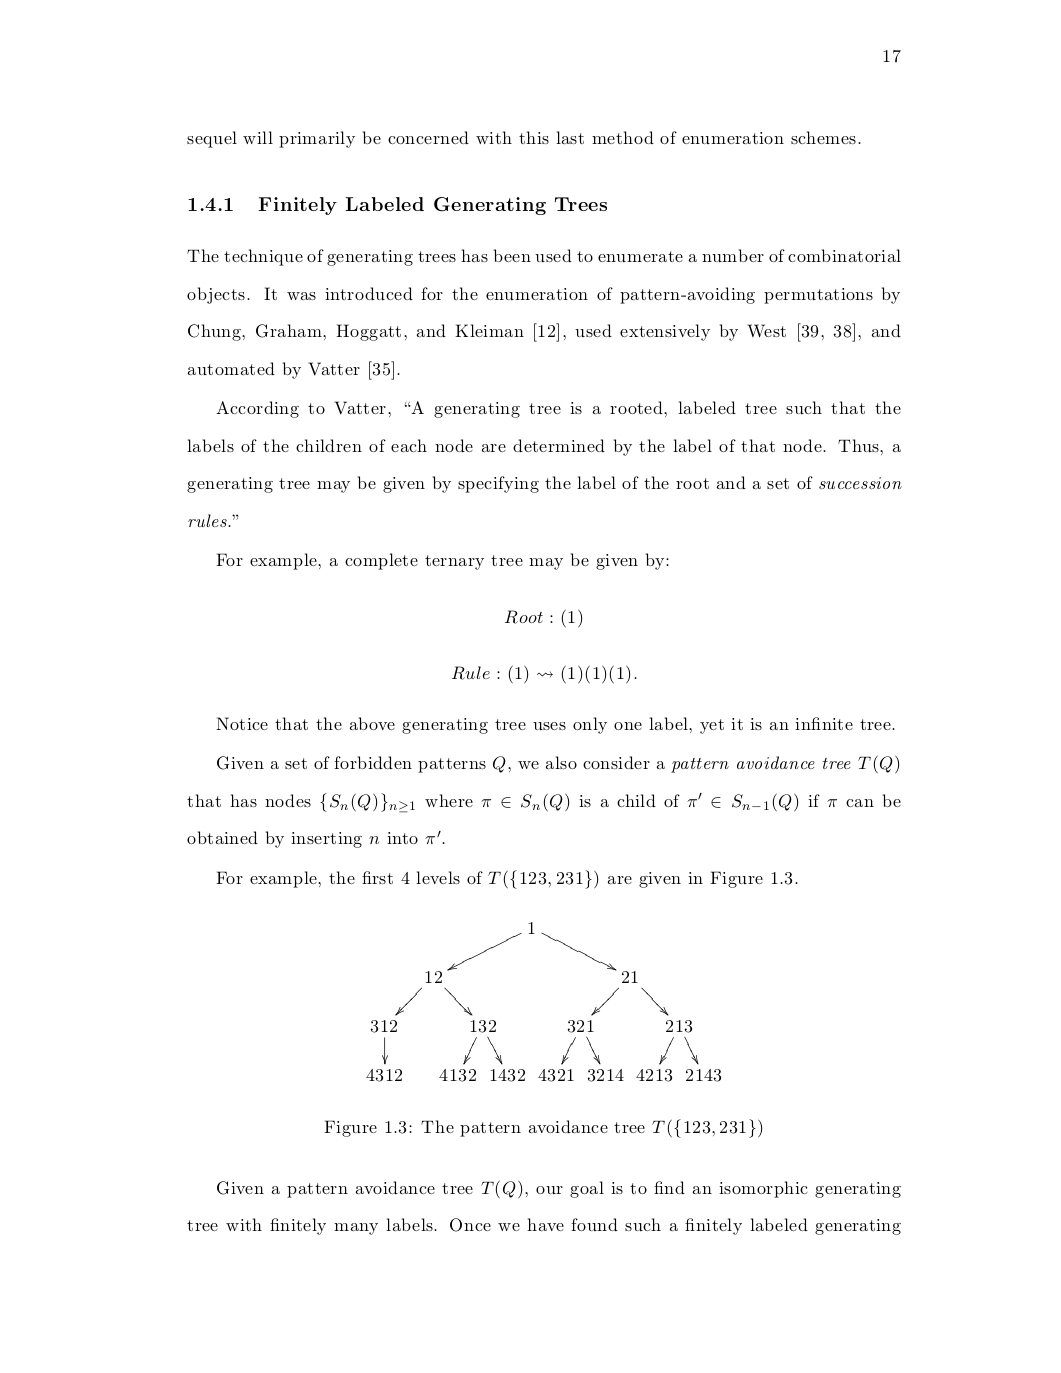figure: (366, 922, 721, 1081)
formula: (451, 664, 636, 684), (504, 608, 582, 629)
